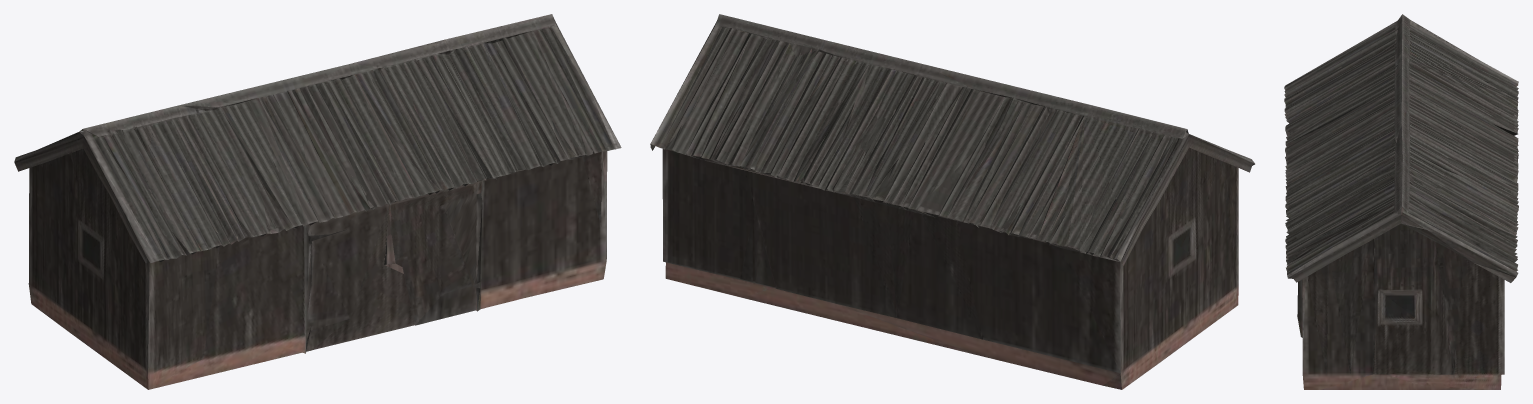
File: shed.glb
The picture shows the model from 3 angles, left to right: view 1: azimuth 30°, elevation 25°; view 2: azimuth 150°, elevation 25°; view 3: azimuth 270°, elevation 25°; orthographic projection. The views are drawn at different scales.
Visible parts, largest first — view 1: output_unwrapped; view 2: output_unwrapped; view 3: output_unwrapped.
Boxes of the visible parts, x1,y1,x2,y2 form: output_unwrapped: (14, 14, 621, 389); output_unwrapped: (650, 14, 1254, 389); output_unwrapped: (1284, 14, 1518, 389).
Size of the model in its own units: 1.9 by 0.8501 by 0.9701.
Materials: 1 (1 with a texture image).
